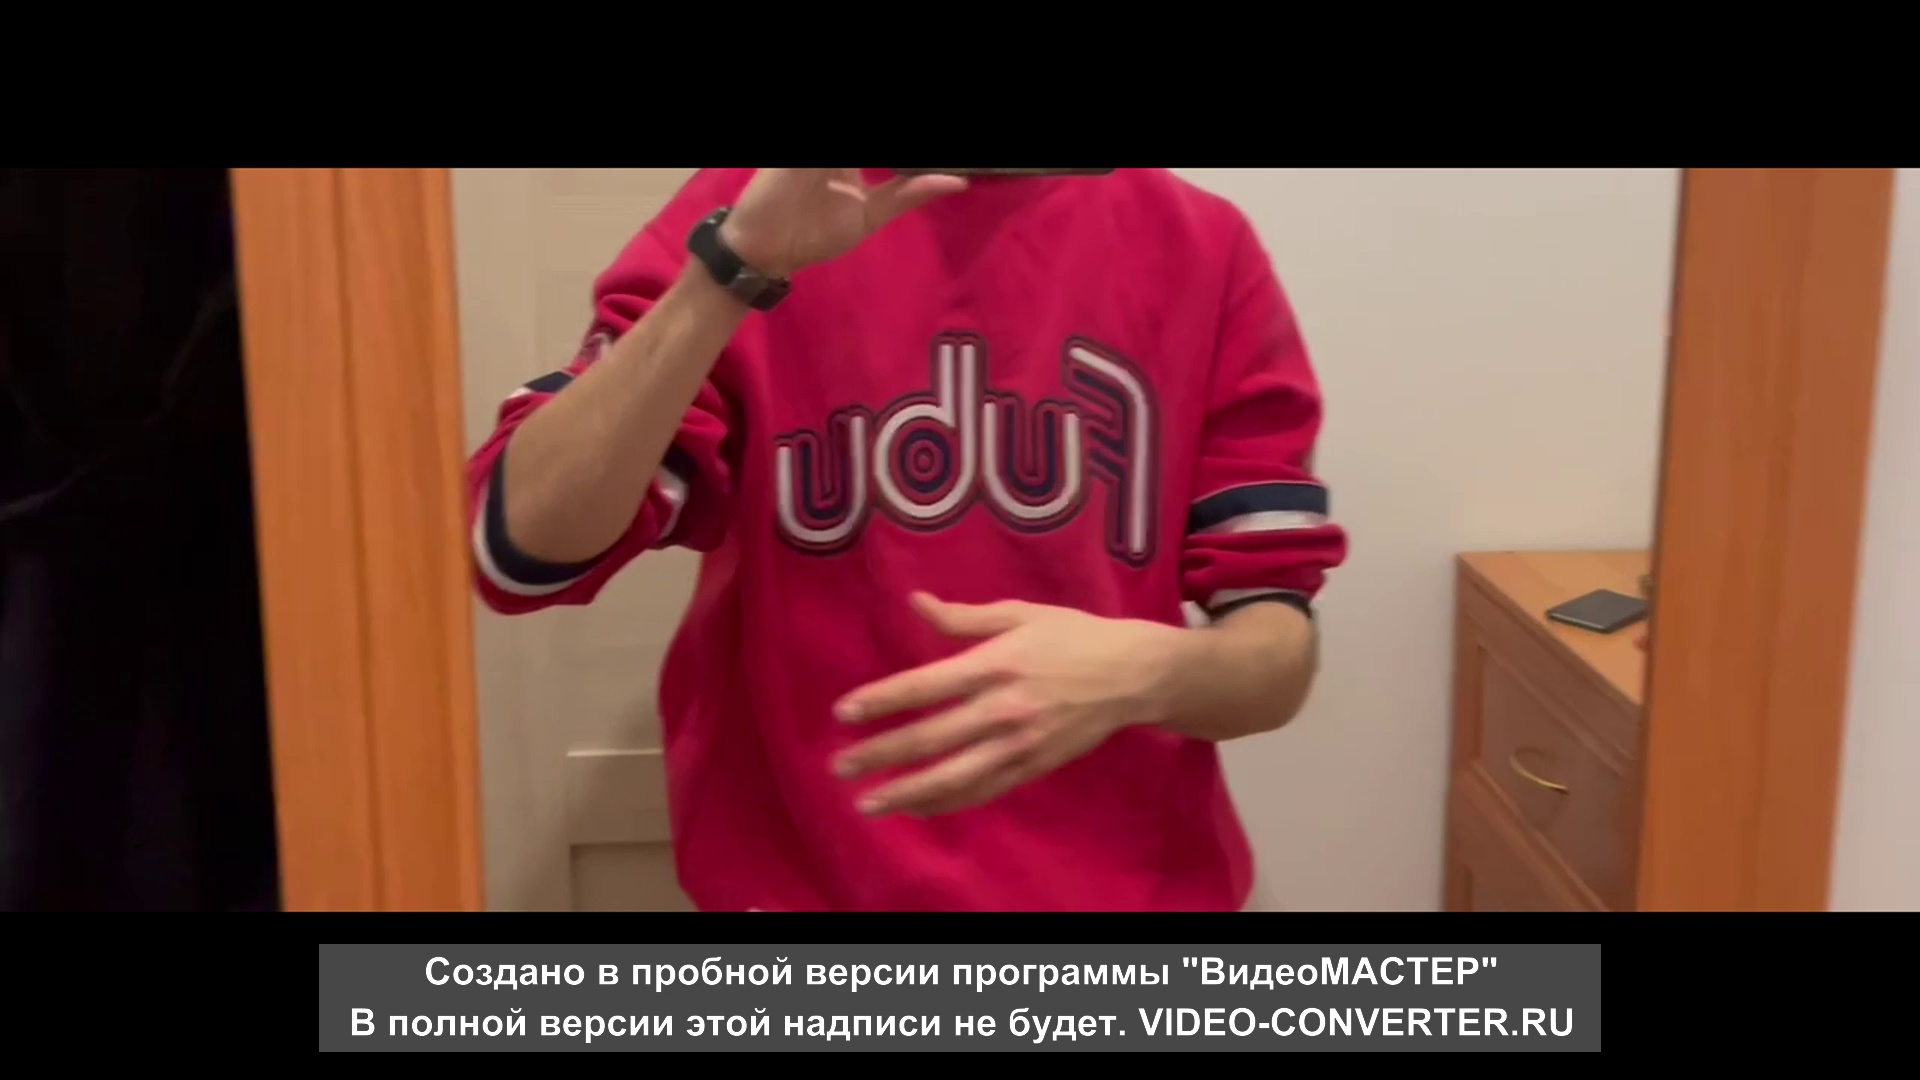Кисть: (828, 591, 1160, 818)
